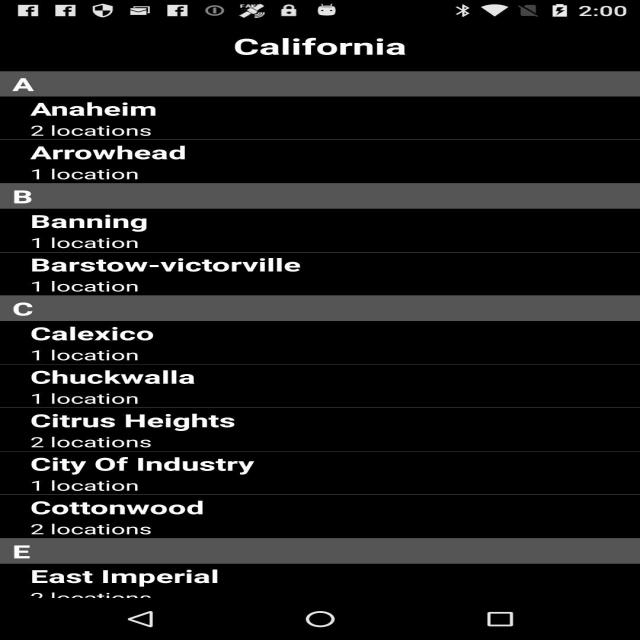text: (2, 210, 330, 296), (28, 103, 211, 184), (0, 490, 241, 536), (0, 455, 282, 494), (0, 561, 256, 601), (11, 412, 260, 451), (22, 362, 200, 408), (215, 29, 431, 66), (15, 328, 185, 362), (0, 529, 73, 561), (4, 295, 58, 326), (8, 70, 60, 101), (6, 185, 58, 216)
